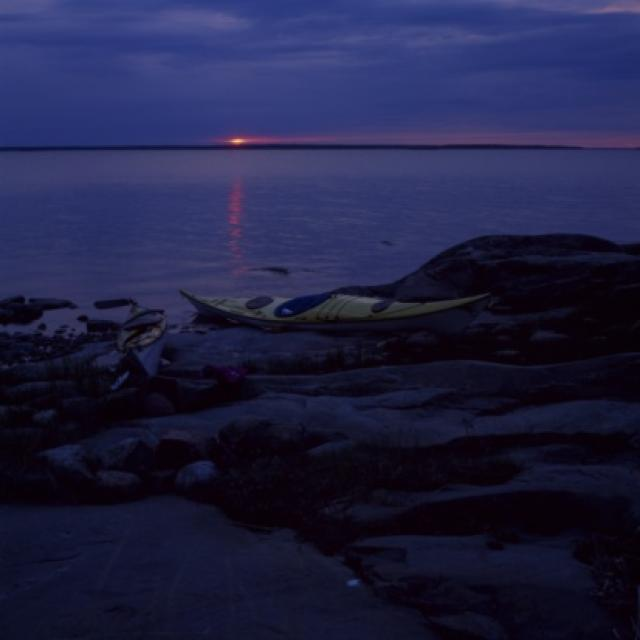Boat: (170, 246, 519, 354), (116, 289, 180, 394)
